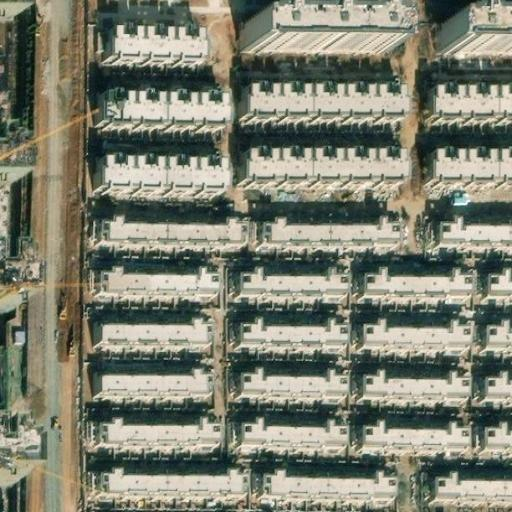building: (251, 6, 390, 48), (243, 89, 404, 121), (242, 154, 398, 186), (98, 161, 219, 194), (264, 215, 400, 243), (101, 98, 222, 129), (101, 467, 248, 492), (110, 214, 245, 241), (264, 469, 396, 495), (99, 267, 214, 296), (93, 418, 209, 445), (101, 317, 211, 344), (109, 31, 204, 62), (240, 267, 346, 293), (366, 267, 472, 293), (241, 367, 347, 393), (429, 90, 512, 123), (365, 370, 470, 396), (241, 318, 347, 343), (364, 318, 470, 343), (362, 421, 468, 446), (242, 418, 348, 443), (428, 154, 512, 185), (102, 368, 210, 391), (433, 471, 512, 497), (442, 216, 512, 242), (0, 177, 11, 252), (485, 422, 512, 446), (488, 371, 512, 396), (488, 318, 512, 342), (490, 267, 512, 292), (0, 445, 11, 485)
